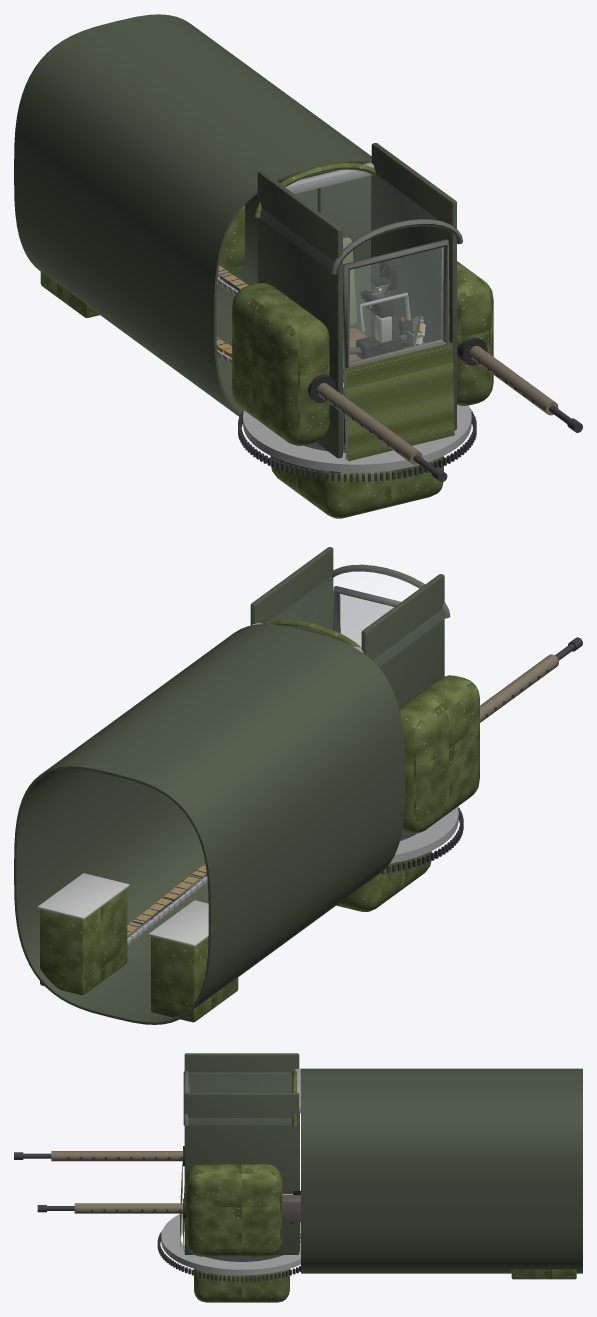
File: b24-tail-turret.glb
3 renders of one model, top to bottom at view 1: azimuth 30°, elevation 25°; view 2: azimuth 150°, elevation 25°; view 3: azimuth 270°, elevation 25°, orthographic. The views are drawn at different scales.
Visible parts, largest first — view 1: dull_dark_green, olive_drab, armour_glass, aluminium_dull, armour_plate, gunmetal, barrel_jacket, black_crinkle, rubber, ammo_belt; view 2: dull_dark_green, olive_drab, aluminium, aluminium_dull, armour_plate, armour_glass, barrel_jacket, gunmetal, ammo_belt; view 3: dull_dark_green, olive_drab, aluminium_dull, barrel_jacket, gunmetal, parkerized.
Boxes of the visible parts, x1,y1,x2,y2 form: dull_dark_green: [14, 14, 456, 458]; olive_drab: [40, 162, 493, 518]; armour_glass: [350, 247, 443, 363]; aluminium_dull: [217, 162, 471, 472]; armour_plate: [330, 219, 463, 459]; gunmetal: [238, 293, 582, 482]; barrel_jacket: [317, 346, 558, 464]; black_crinkle: [356, 260, 409, 358]; rubber: [308, 324, 487, 402]; ammo_belt: [216, 265, 423, 395]; dull_dark_green: [14, 547, 444, 1024]; olive_drab: [40, 619, 479, 1022]; aluminium: [37, 873, 208, 946]; aluminium_dull: [127, 622, 458, 945]; armour_plate: [331, 564, 450, 639]; armour_glass: [340, 594, 393, 646]; barrel_jacket: [480, 654, 558, 722]; gunmetal: [337, 591, 582, 874]; ammo_belt: [127, 863, 206, 938]; dull_dark_green: [184, 1053, 582, 1273]; olive_drab: [180, 1070, 576, 1302]; aluminium_dull: [161, 1068, 300, 1275]; barrel_jacket: [51, 1151, 182, 1213]; gunmetal: [14, 1086, 300, 1282]; parkerized: [282, 1195, 300, 1221].
Bounding box in the file's own units: 1.1 × 1.52 × 3.67.
Materials: 20 (4 with a texture image).
